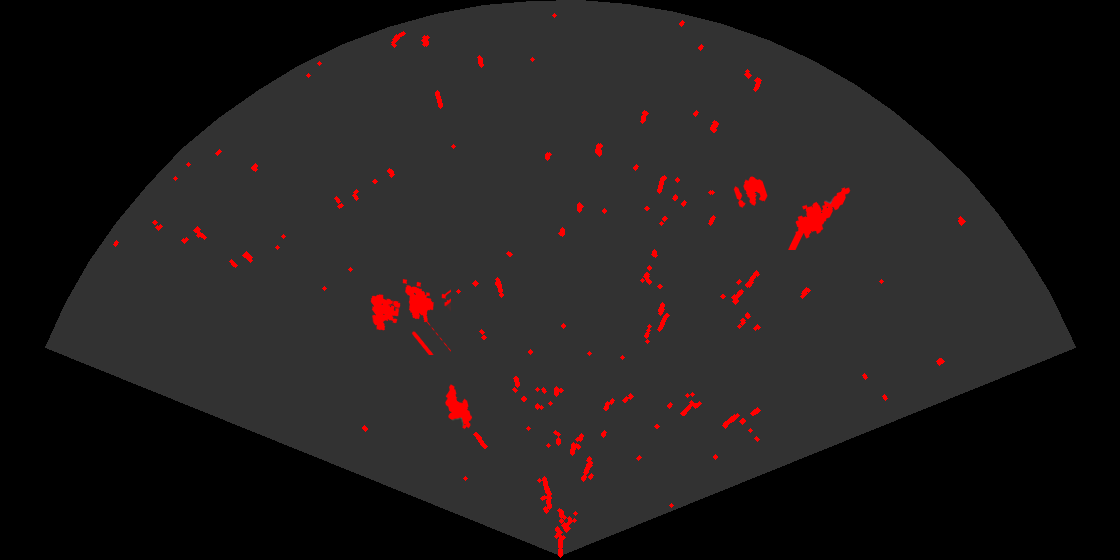AUV: (444, 383, 474, 431)
ball: (732, 175, 769, 209)
cage: (369, 277, 451, 355)
frogman: (787, 186, 852, 250)
